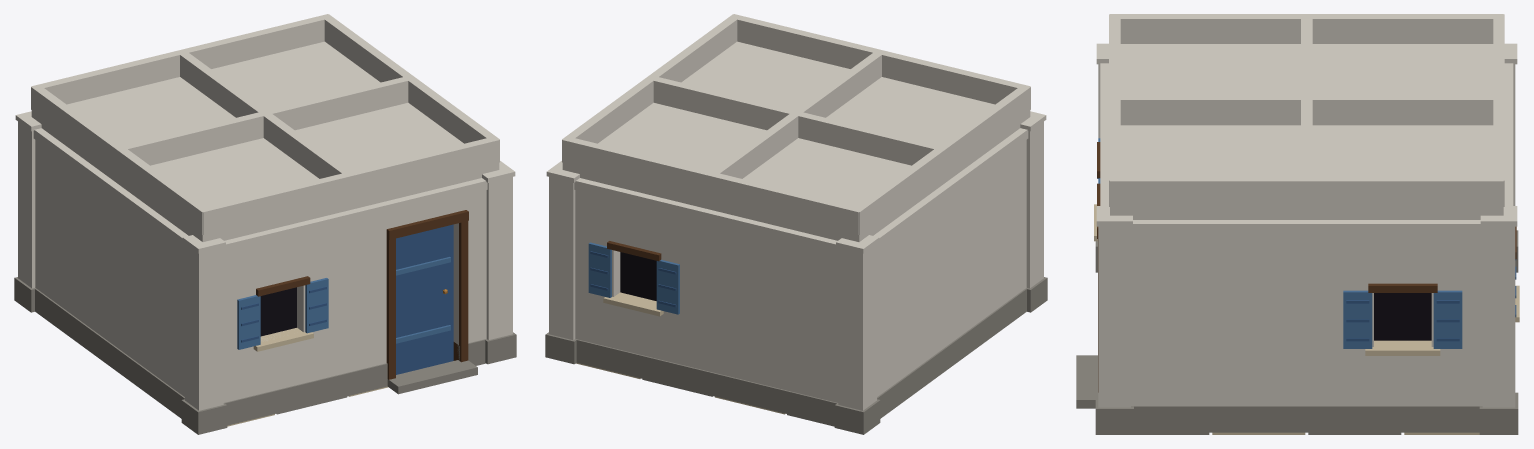
File: House_Island.glb
3 views of the same model, side by side, from view 1: azimuth 30°, elevation 25°; view 2: azimuth 150°, elevation 25°; view 3: azimuth 270°, elevation 25° (orthographic). The views are drawn at different scales.
Visible parts, largest first — view 1: Wall_Door.003, Wall_Window.006, Roof_Flat.001, Roof_Flat.003, Roof_Flat.002, Wall_Plain.013, Wall_Plain.012, Roof_Flat.004, Wall_Corner.012, Wall_Corner.010, Wall_Corner.011; view 2: Wall_Window.007, Wall_Plain.010, Roof_Flat.002, Roof_Flat.001, Roof_Flat.004, Wall_Plain.012, Wall_Plain.013, Roof_Flat.003, Wall_Corner.011, Wall_Corner.009, Wall_Corner.012; view 3: Wall_Plain.011, Wall_Window.008, Roof_Flat.003, Roof_Flat.004, Roof_Flat.001, Roof_Flat.002, Wall_Corner.009, Wall_Corner.010, Wall_Door.003, Wall_Window.007, Wall_Window.006, Wall_Corner.011 (+4 smaller).
Part boxes in pixels (<box>): Wall_Door.003: <box>351,178,487,394</box>; Wall_Window.006: <box>223,210,355,425</box>; Roof_Flat.001: <box>114,110,354,241</box>; Roof_Flat.003: <box>264,75,499,210</box>; Roof_Flat.002: <box>31,49,266,183</box>; Wall_Plain.013: <box>33,128,116,366</box>; Wall_Plain.012: <box>110,183,188,418</box>; Roof_Flat.004: <box>181,14,413,115</box>; Wall_Corner.012: <box>181,235,227,434</box>; Wall_Corner.010: <box>482,161,516,364</box>; Wall_Corner.011: <box>14,111,41,312</box>; Wall_Window.007: <box>574,178,710,394</box>; Wall_Plain.010: <box>706,210,838,425</box>; Roof_Flat.002: <box>707,110,947,241</box>; Roof_Flat.001: <box>792,49,1030,184</box>; Roof_Flat.004: <box>562,75,794,209</box>; Wall_Plain.012: <box>945,128,1028,366</box>; Wall_Plain.013: <box>873,183,951,418</box>; Roof_Flat.003: <box>649,14,880,129</box>; Wall_Corner.011: <box>834,235,880,434</box>; Wall_Corner.009: <box>545,161,579,364</box>; Wall_Corner.012: <box>1020,111,1047,312</box>; Wall_Plain.011: <box>1131,220,1306,432</box>; Wall_Window.008: <box>1307,220,1482,432</box>; Roof_Flat.003: <box>1109,95,1312,219</box>; Roof_Flat.004: <box>1301,97,1504,219</box>; Roof_Flat.001: <box>1109,14,1312,125</box>; Roof_Flat.002: <box>1301,14,1504,125</box>; Wall_Corner.009: <box>1479,206,1518,434</box>; Wall_Corner.010: <box>1095,206,1133,434</box>; Wall_Door.003: <box>1076,136,1108,408</box>; Wall_Window.007: <box>1504,136,1519,322</box>; Wall_Window.006: <box>1094,63,1108,241</box>; Wall_Corner.011: <box>1504,43,1518,272</box>.
Size of the model in its own units: 4.42 by 2.95 by 4.62.
